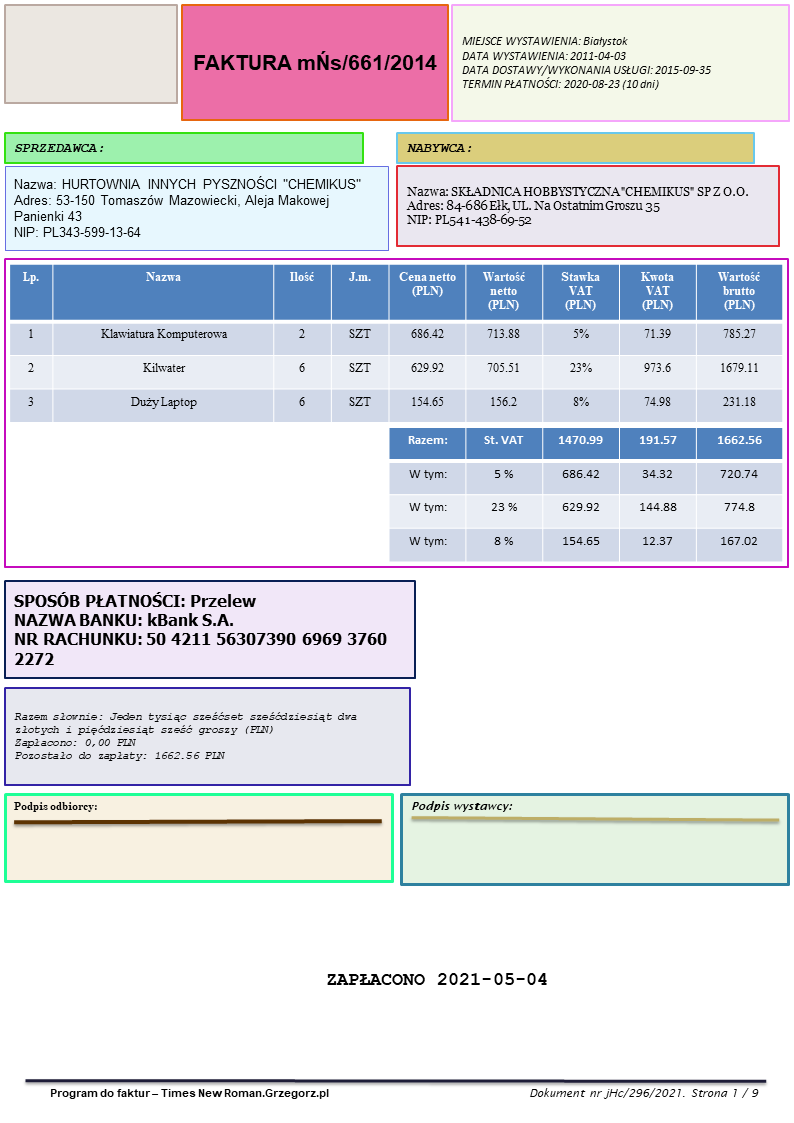Table: (9, 263, 783, 424), (387, 426, 784, 563)
TextBox: (11, 590, 388, 669), (11, 174, 364, 241), (12, 708, 360, 763), (404, 182, 751, 229), (460, 33, 713, 91), (192, 49, 439, 73), (48, 1086, 331, 1102), (325, 969, 550, 989), (527, 1085, 760, 1101), (409, 799, 514, 814), (12, 798, 97, 814), (13, 141, 105, 155), (404, 141, 473, 155)
